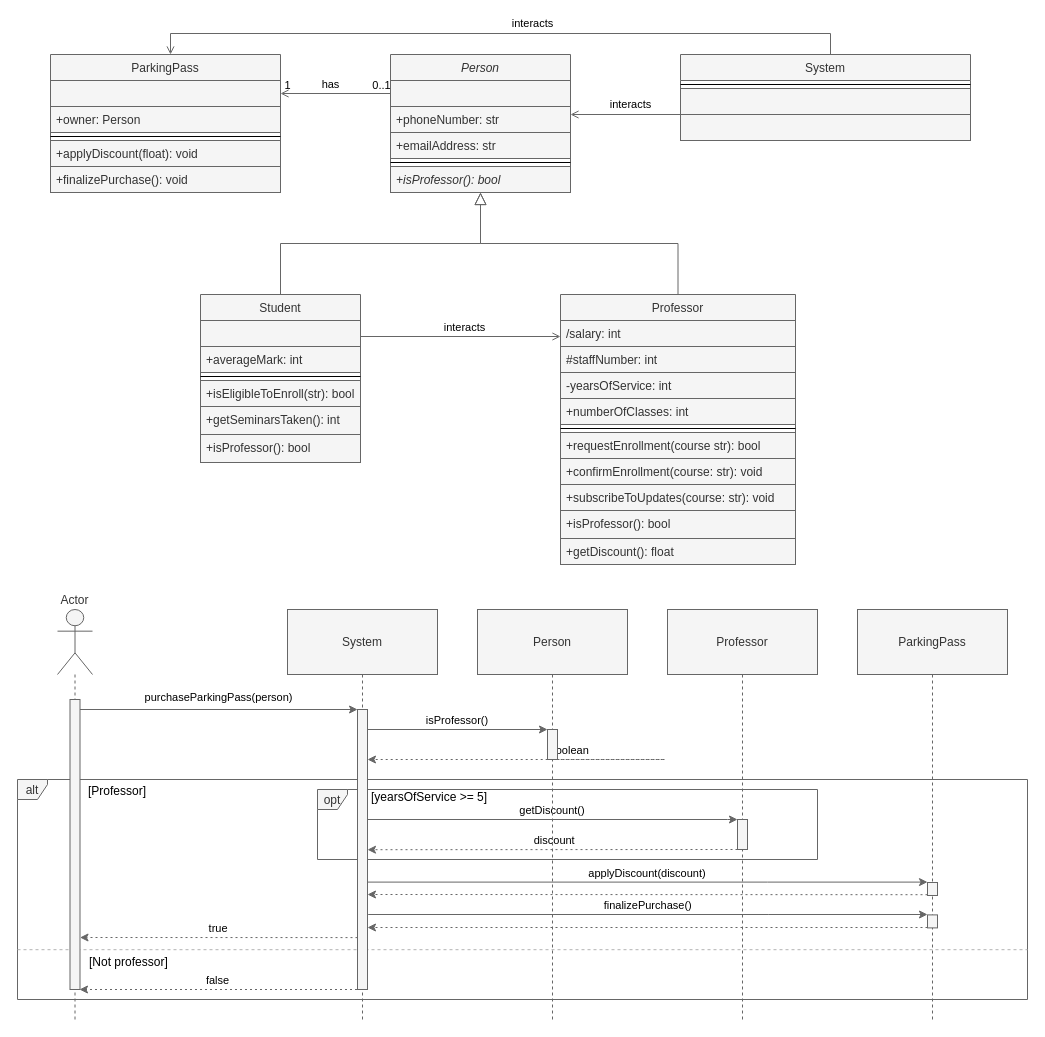
Image size: 1045x1037. Some labels were removed from this diagram. Here are the shapes that lost their labels. From the top down, the centre of each, then its label:
At point 165,93: "+price: float".
At point 480,93: "+name: str".
At point 825,101: "+approveEnrollment(course str): bool".
At point 825,127: "+purchaseParkingPass(person: Person): bool".
At point 280,333: "+studentNumber: int".
